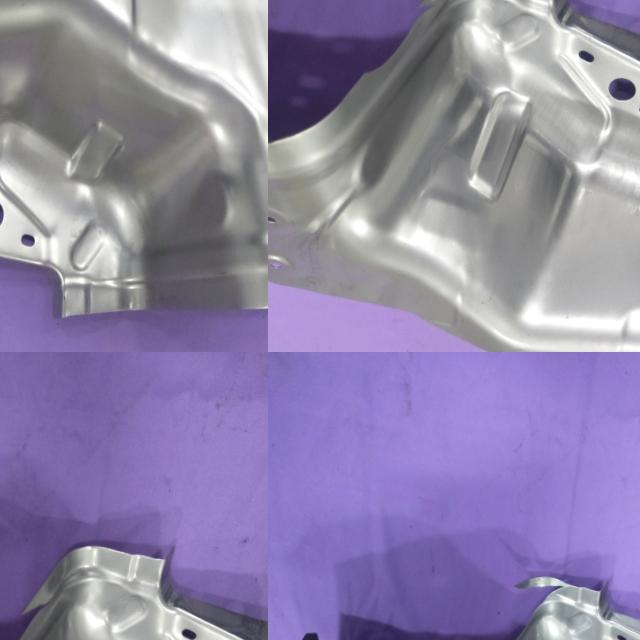Defect: (356, 0, 447, 87), (487, 567, 567, 640), (5, 580, 66, 640)
Healthy: (0, 0, 268, 340)
